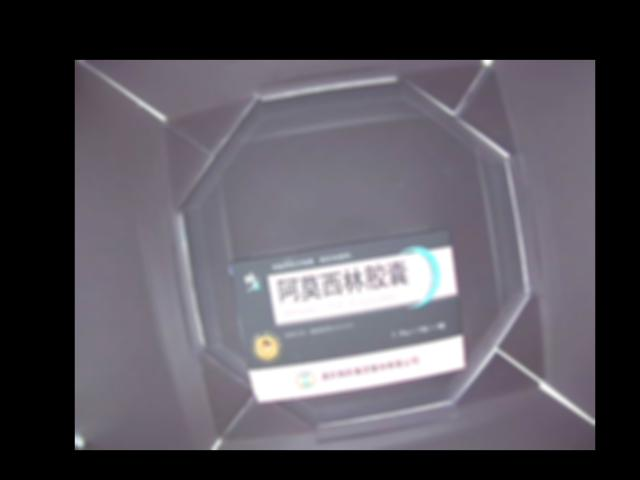Medicine: (227, 227, 465, 402)
